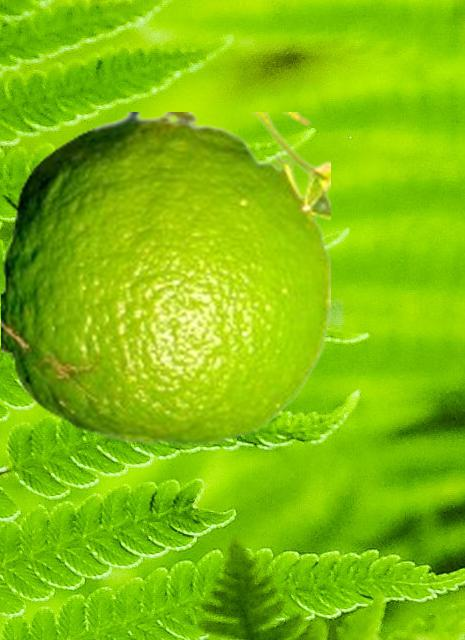dalandan: (1, 112, 329, 444)
